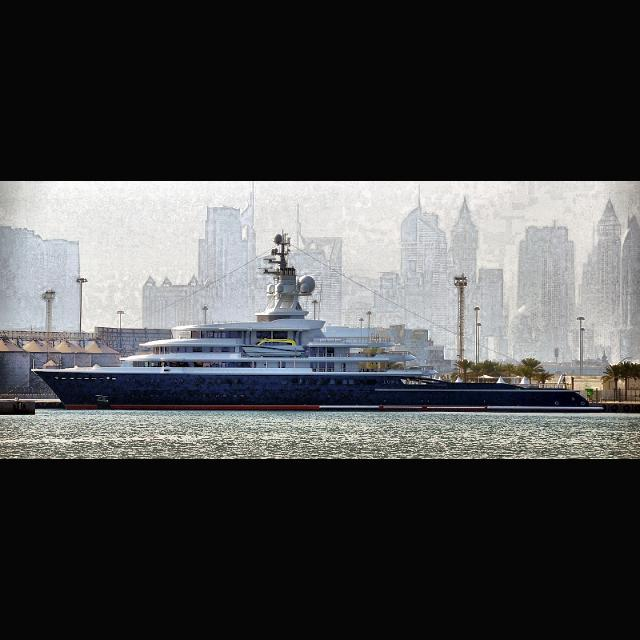yacht: (32, 234, 604, 412)
